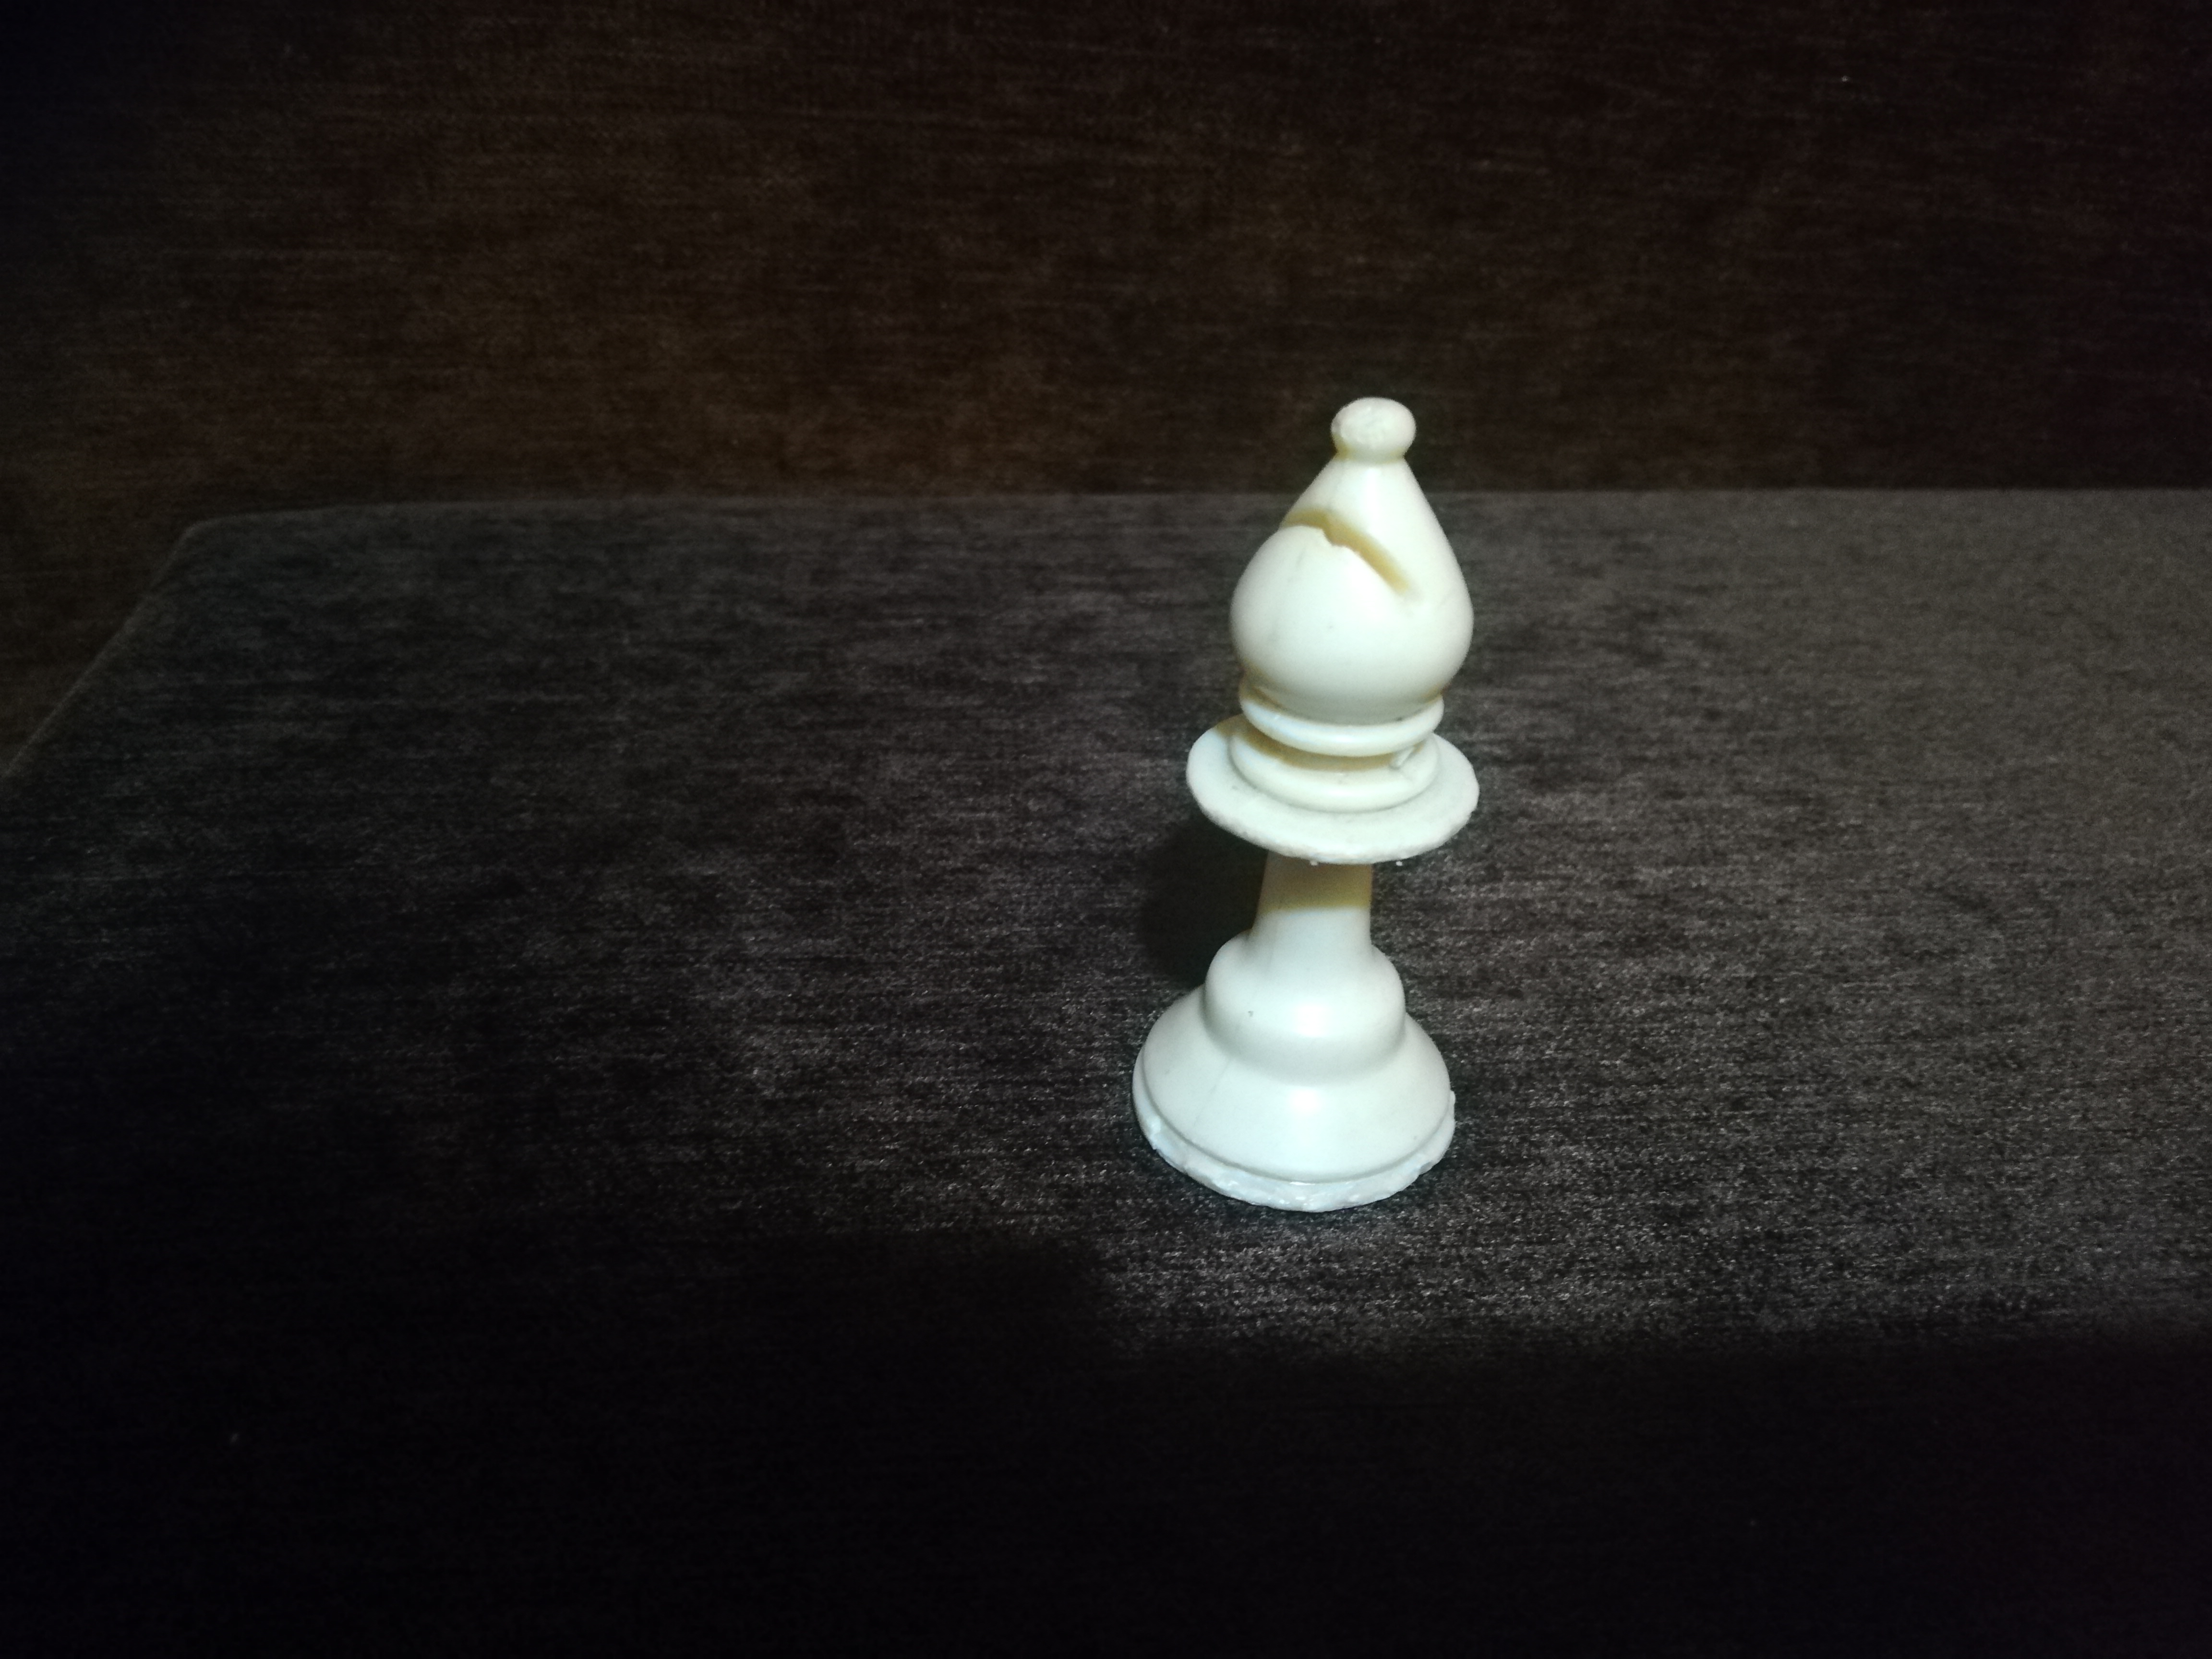Bishop: (1131, 358, 1494, 1217)
